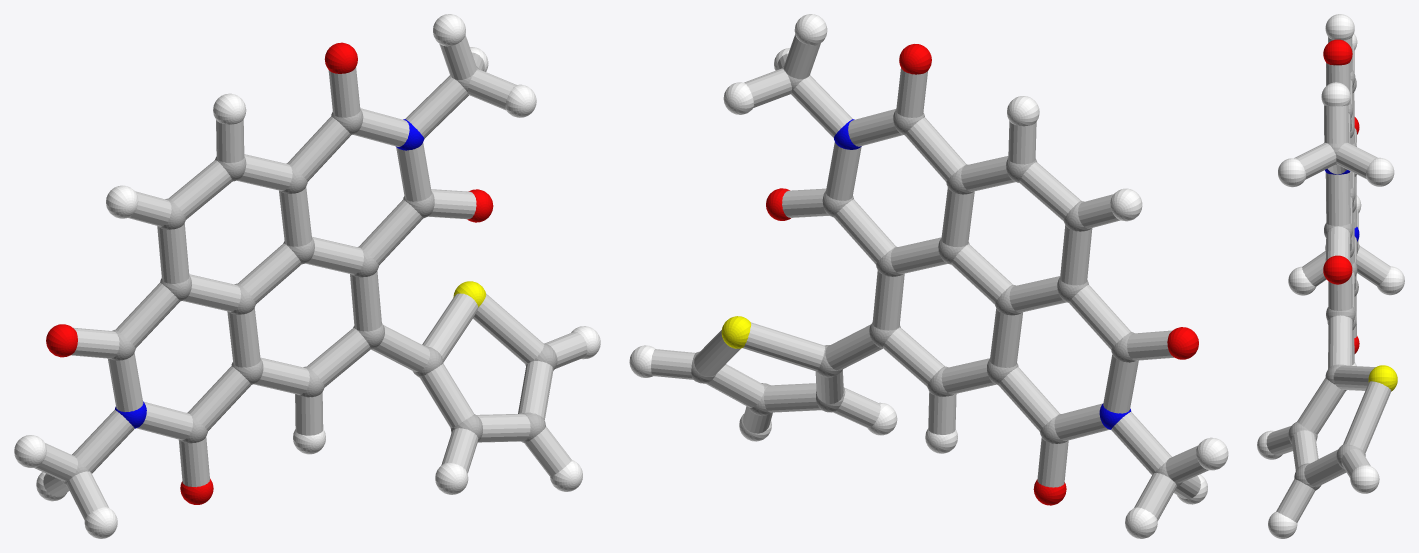
Rendered from Dimethyl_Naphthalene_Dicarboximide_Phi_10_Theta_140_Thiophene.glb.
The picture shows the model from 3 angles, left to right: view 1: azimuth 30°, elevation 25°; view 2: azimuth 150°, elevation 25°; view 3: azimuth 270°, elevation 25°; orthographic projection. The views are drawn at different scales.
Visible parts, largest first — view 1: grp14119, grp7241, grp1, grp12309, grp11585; view 2: grp14119, grp7241, grp1, grp12309, grp13757, grp11585; view 3: grp14119, grp7241, grp1, grp12309, grp13757.
Part boxes in pixels (x1,y1,x2,y2): grp14119: (34, 35, 587, 519); grp7241: (14, 14, 600, 538); grp1: (61, 66, 557, 485); grp12309: (46, 42, 493, 504); grp11585: (115, 119, 424, 428); grp14119: (651, 34, 1208, 520); grp7241: (629, 14, 1228, 538); grp1: (691, 66, 1182, 487); grp12309: (766, 44, 1198, 505); grp13757: (721, 316, 751, 348); grp11585: (834, 119, 1131, 429); grp14119: (1266, 37, 1391, 522); grp7241: (1257, 14, 1404, 538); grp1: (1288, 70, 1365, 490); grp12309: (1323, 39, 1359, 353); grp13757: (1368, 365, 1397, 391).
Size of the model in its own units: 12.32 by 9.42 by 3.03.
